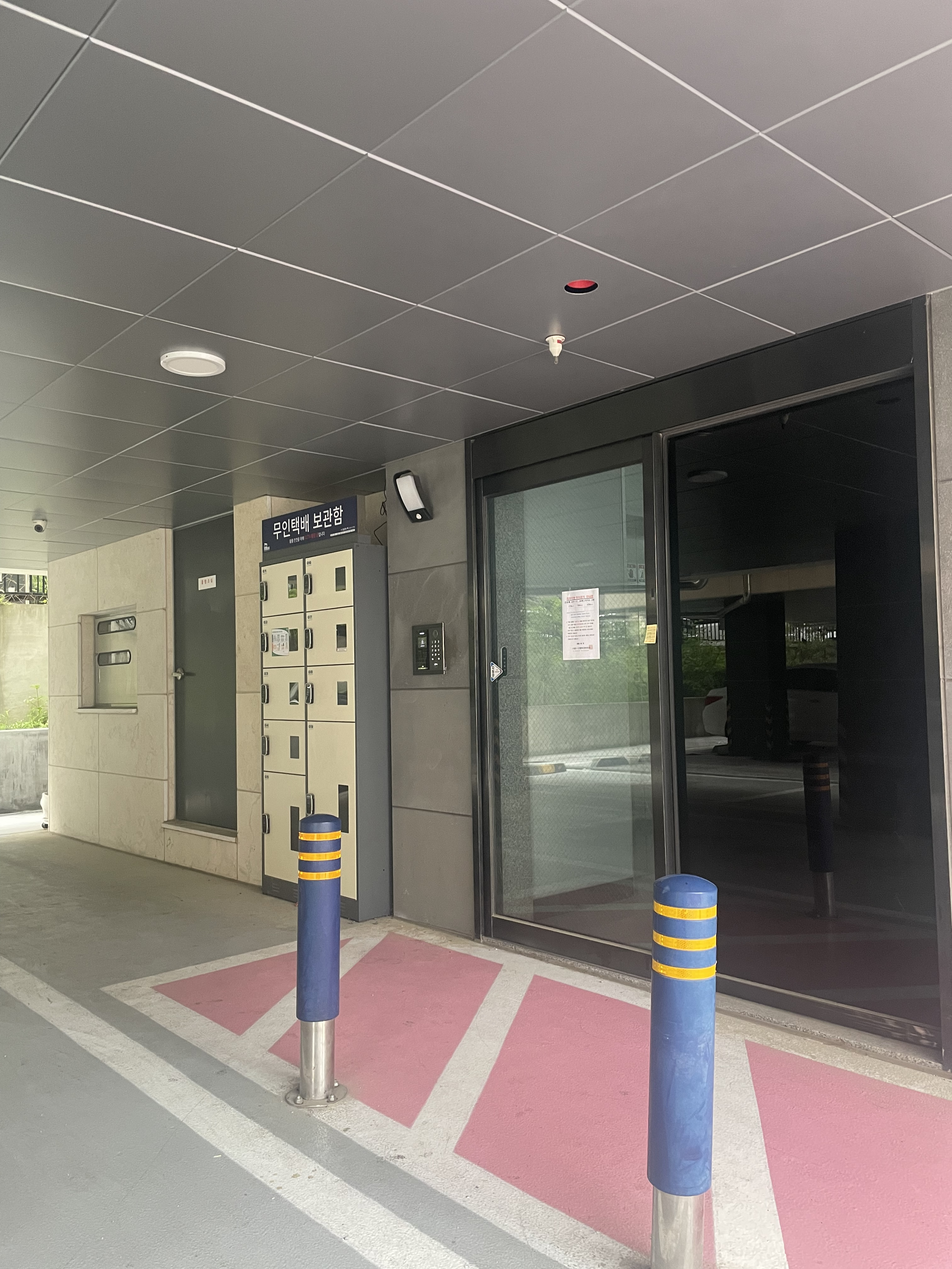bollard: (648, 874, 717, 1269), (286, 814, 346, 1106), (803, 753, 836, 917)
